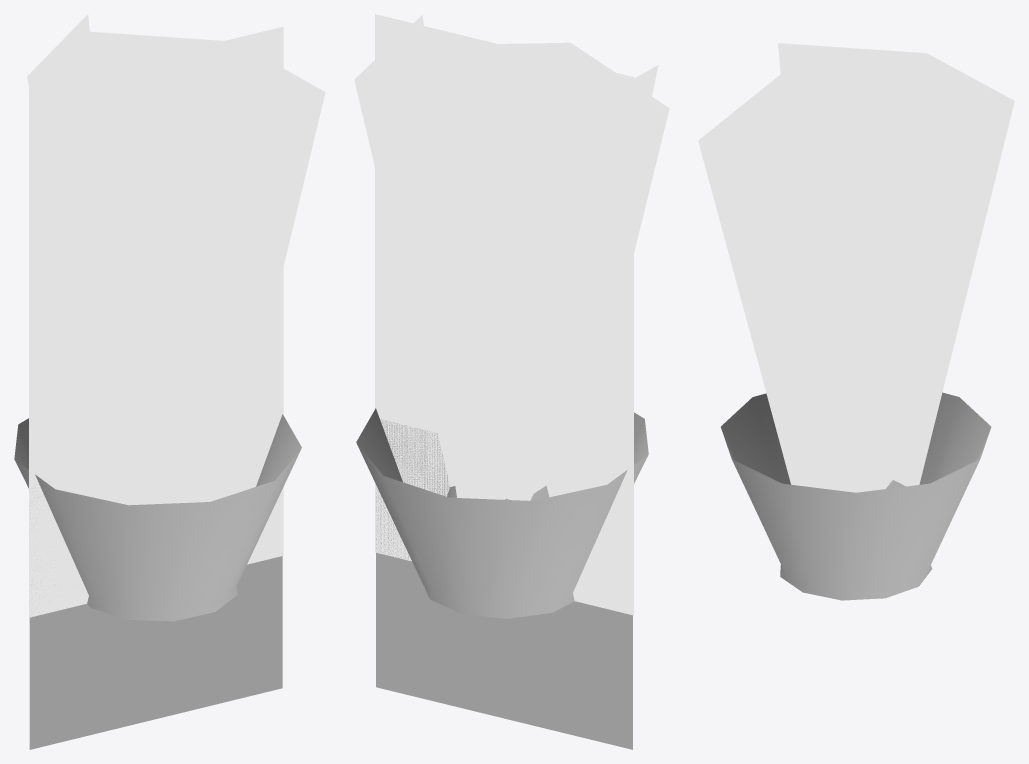
Rendered from SW3_ParticleMeshes.fbx.
The picture shows the model from 3 angles, left to right: view 1: azimuth 30°, elevation 25°; view 2: azimuth 150°, elevation 25°; view 3: azimuth 270°, elevation 25°; orthographic projection. The views are drawn at different scales.
Parts seen in each view (by area): view 1: WaterImpactSplash, SplashBillboard, ParticleQuad, WaterCircle; view 2: WaterImpactSplash, SplashBillboard, ParticleQuad, WaterCircle; view 3: WaterImpactSplash, WaterCircle.
Boxes of the visible parts, bbox=[...] form: WaterImpactSplash: bbox=[27, 14, 325, 505]; SplashBillboard: bbox=[29, 26, 283, 617]; ParticleQuad: bbox=[29, 497, 282, 749]; WaterCircle: bbox=[14, 414, 301, 621]; WaterImpactSplash: bbox=[354, 15, 669, 500]; SplashBillboard: bbox=[375, 14, 633, 615]; ParticleQuad: bbox=[376, 419, 632, 749]; WaterCircle: bbox=[356, 408, 648, 618]; WaterImpactSplash: bbox=[698, 43, 1014, 492]; WaterCircle: bbox=[721, 392, 991, 600].
Size of the model in its own units: 0.5035 by 1.25 by 0.5788.
2 materials, 1 textured.
